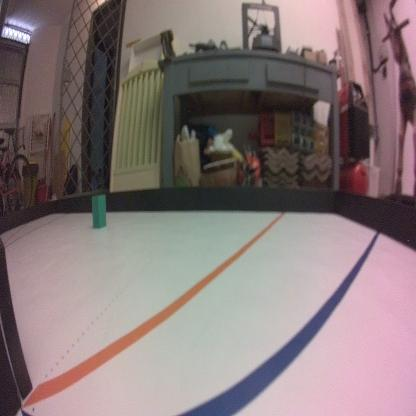green: (90, 194, 106, 227)
